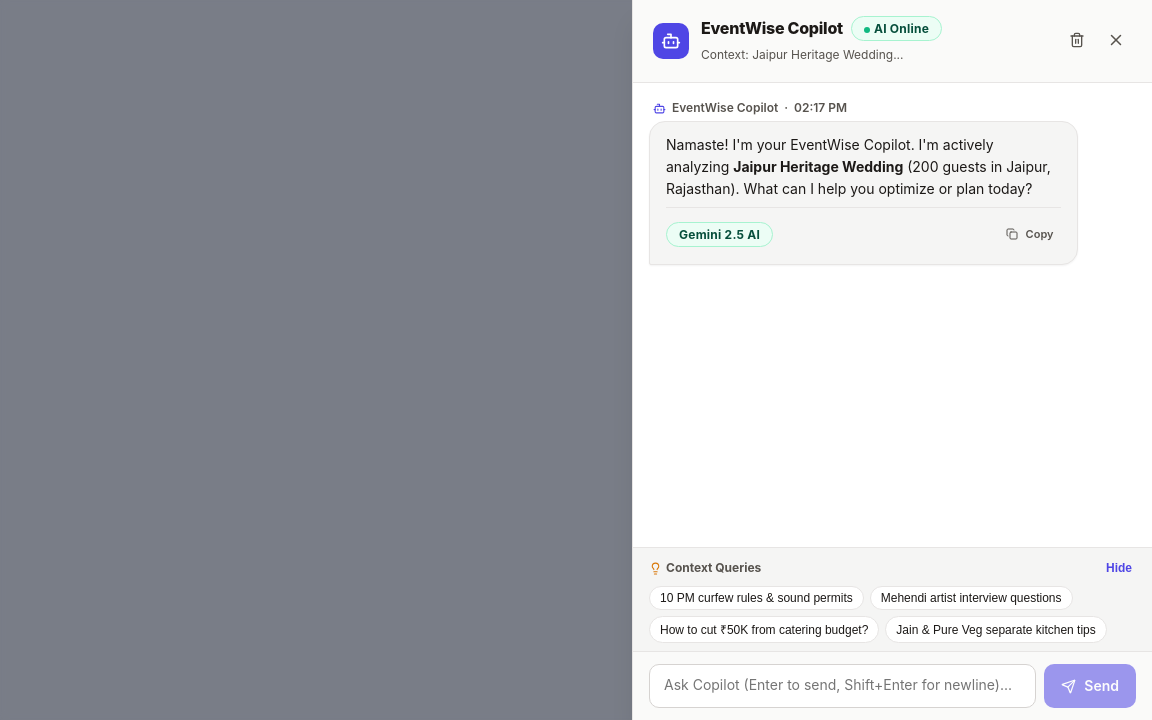
Scenario: Copilot, Vendors & Ideas Polish (Step 7) › handles context suggestion chips and toggle behavior
This screenshot has width=1152, height=720.
# Clicking chip sends prompt and hides chips
Click the button "10 PM curfew rules & sound permits".
click(756, 598)  # box [649,586,864,610]
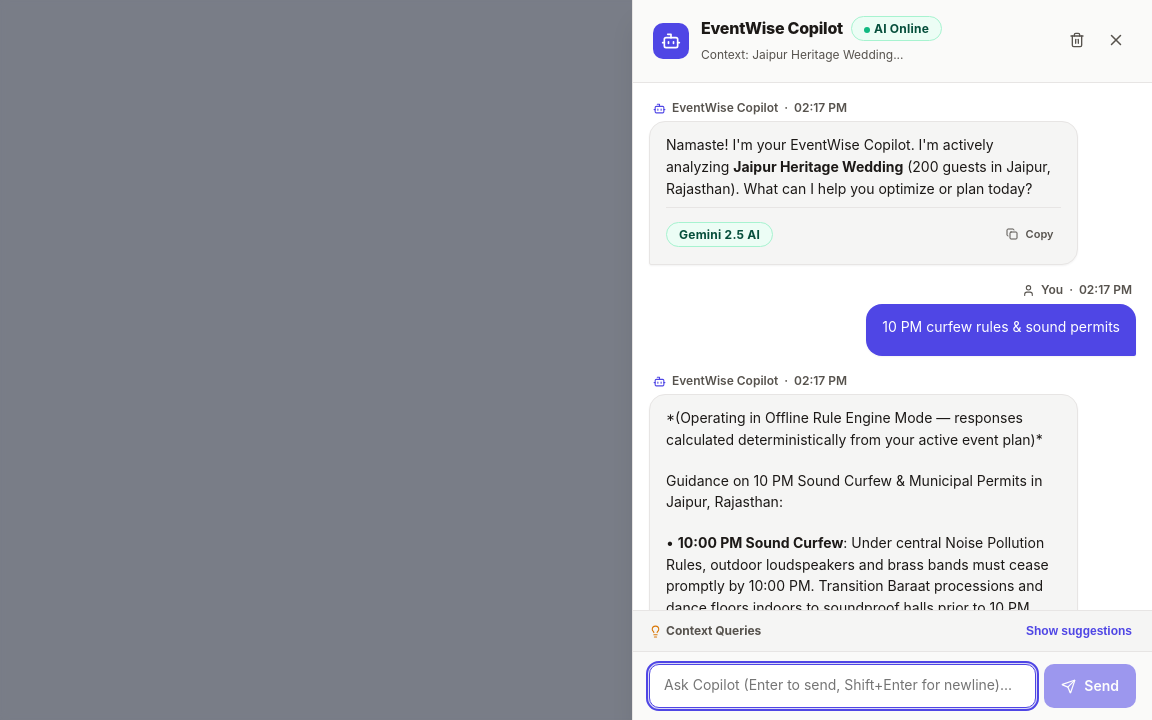
Expected: the text "10 PM curfew rules & sound permits" is shown, [882,316,1120,338]
Result: the button "Show suggestions" is shown
Click the button "Show suggestions".
click(1079, 631)  # box [1022,619,1136,643]
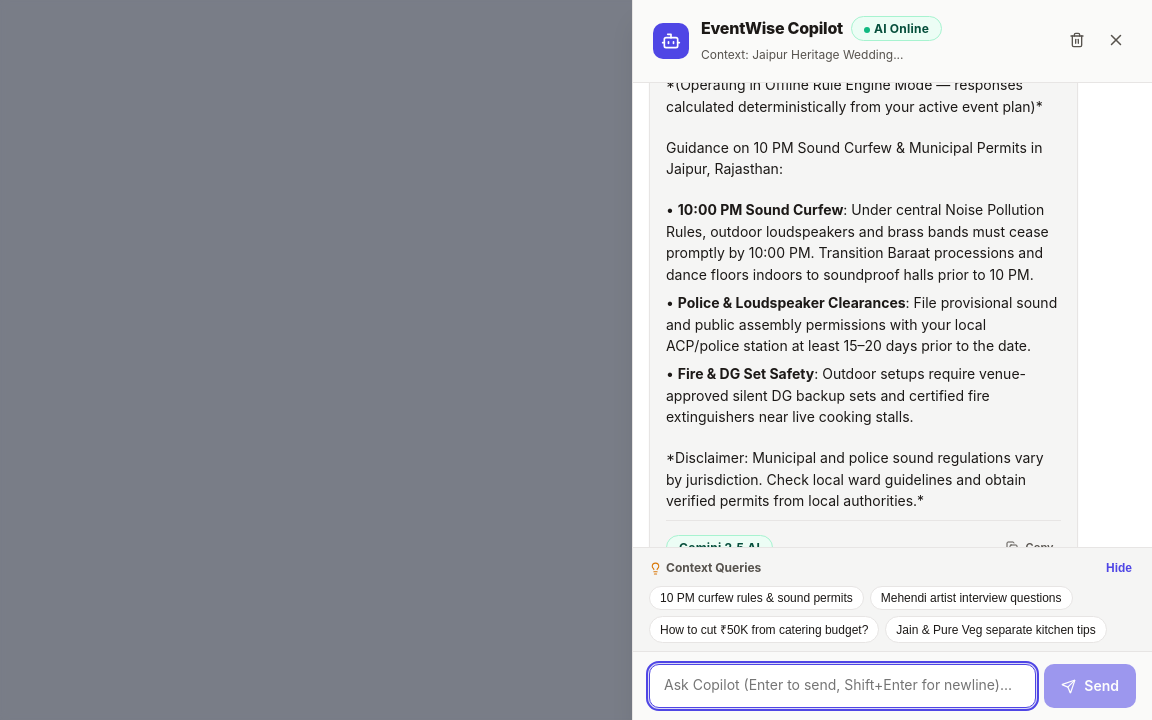
Result: the button "Mehendi artist interview questions" is shown at [870,586,1073,610]
